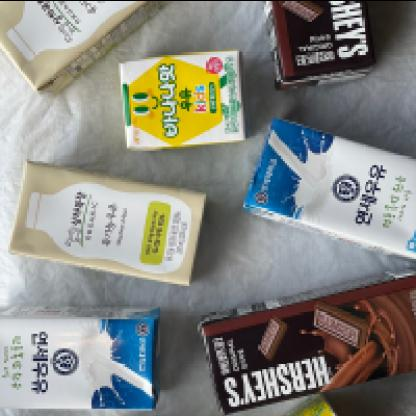tetra: (10, 146, 216, 295), (176, 289, 416, 415), (250, 107, 415, 266), (0, 301, 174, 415), (98, 49, 253, 149)
